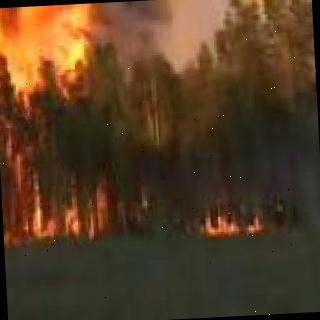fire: (0, 3, 108, 242), (195, 210, 271, 240)
